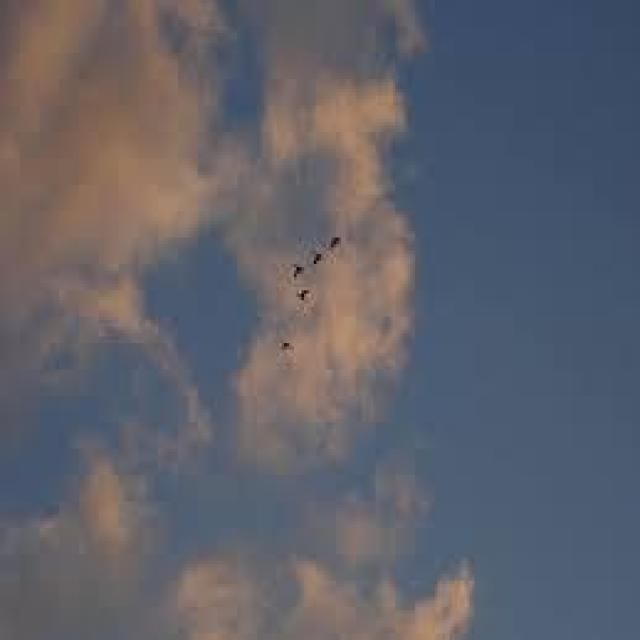bird: (298, 288, 312, 303), (292, 262, 302, 280)
